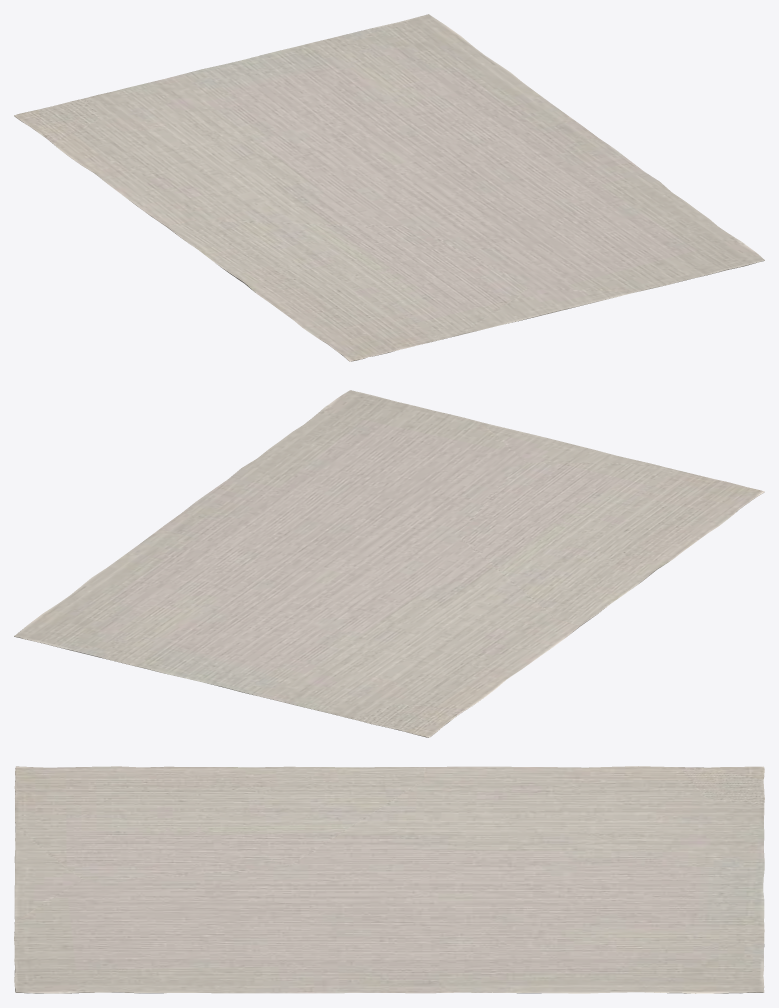
3 views of the same model, one above another, from view 1: azimuth 30°, elevation 25°; view 2: azimuth 150°, elevation 25°; view 3: azimuth 270°, elevation 25° (orthographic). The views are drawn at different scales.
Parts seen in each view (by area): view 1: G-40559166-TIPHEDE002; view 2: G-40559166-TIPHEDE002; view 3: G-40559166-TIPHEDE002.
Part boxes in pixels (x1,y1,x2,y2): G-40559166-TIPHEDE002: [14, 14, 764, 361]; G-40559166-TIPHEDE002: [14, 390, 764, 737]; G-40559166-TIPHEDE002: [14, 766, 764, 993].
Size of the model in its own units: 2 by 0.00529 by 2.8.
Materials: 1 (1 with a texture image).
